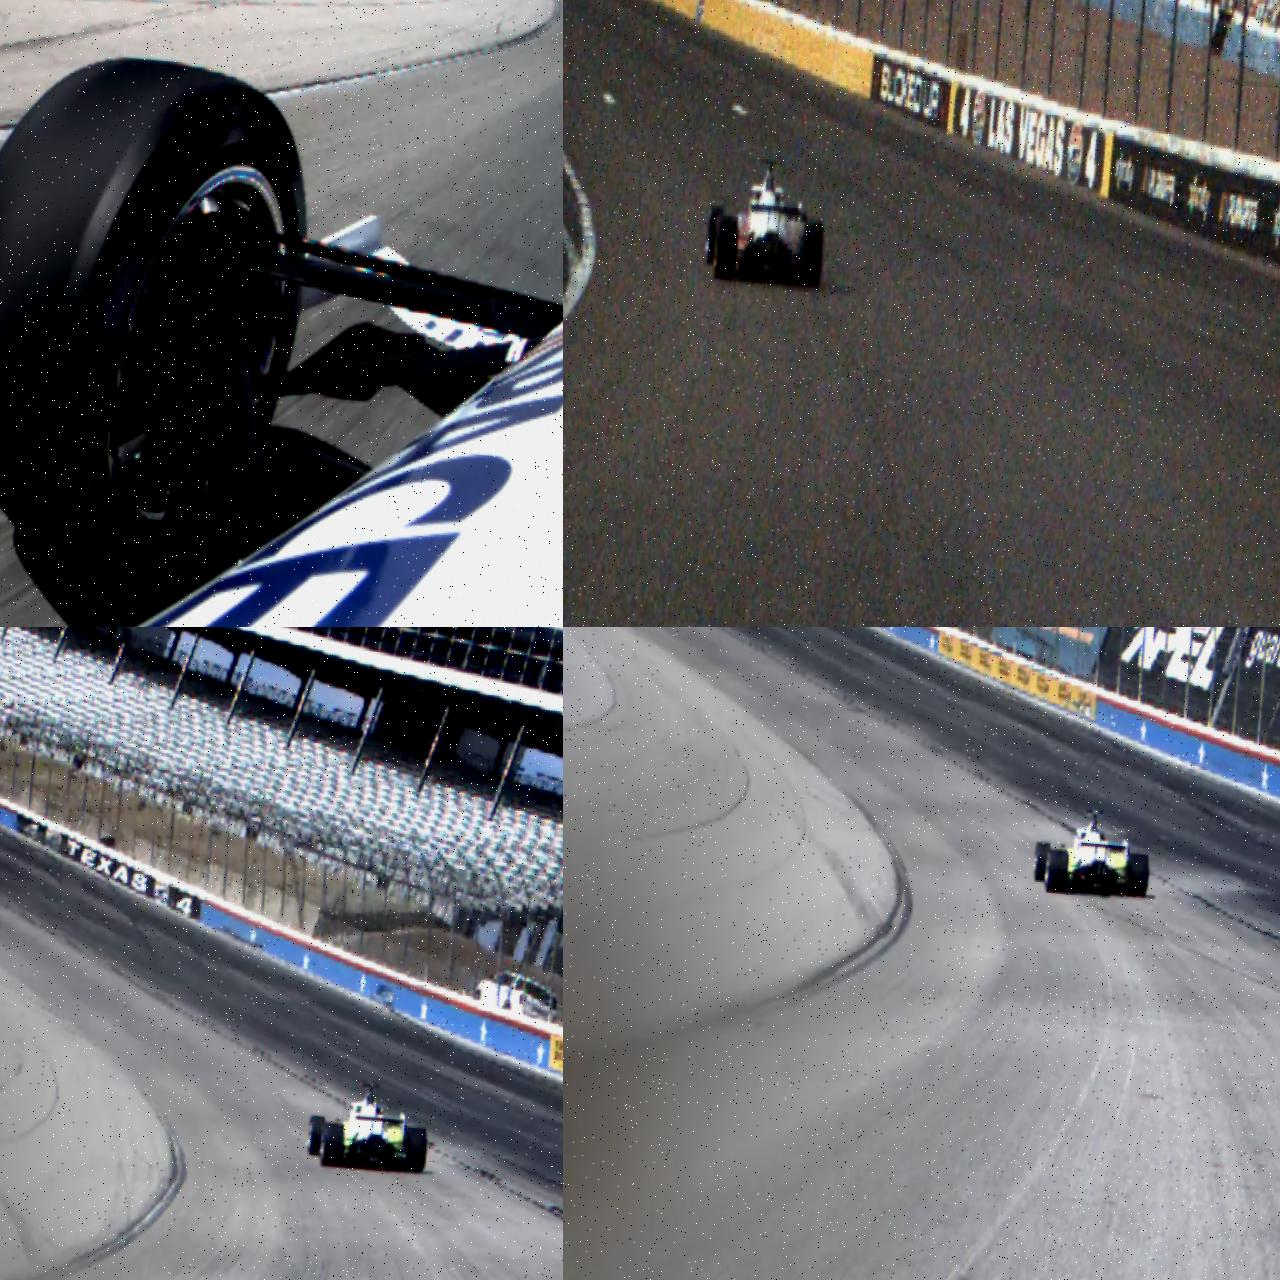AV: (701, 152, 832, 293), (304, 1076, 434, 1176), (1032, 804, 1155, 901)
Wheel: (0, 43, 321, 584), (799, 219, 828, 291), (712, 215, 741, 282), (704, 204, 726, 268), (402, 1126, 429, 1175), (320, 1122, 347, 1169), (1124, 852, 1151, 899), (1044, 847, 1069, 894), (1033, 840, 1051, 884), (307, 1116, 326, 1156)
